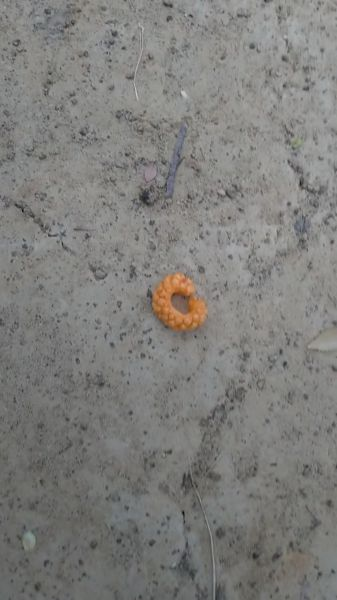eggs: (149, 266, 212, 336)
